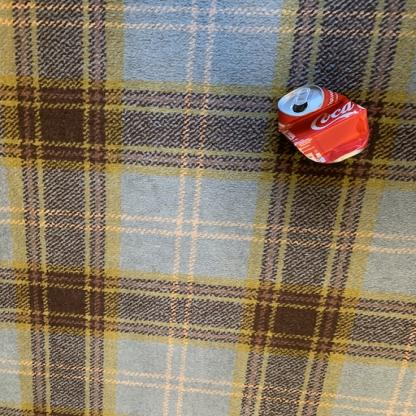trash: (276, 82, 378, 172)
